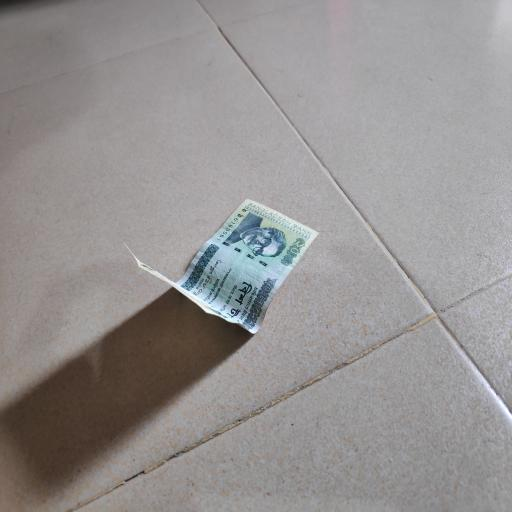20taka: (177, 194, 321, 326)
